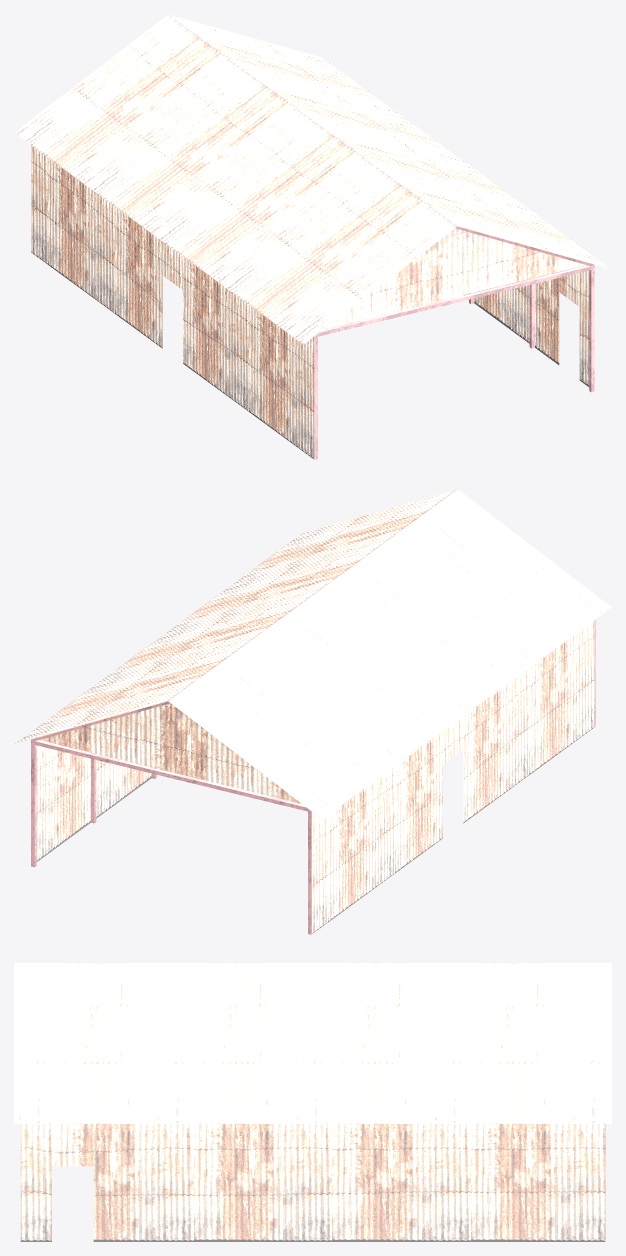
The model's file is large_shedB.glb.
3 views of the same model, one above another, from view 1: azimuth 30°, elevation 25°; view 2: azimuth 150°, elevation 25°; view 3: azimuth 270°, elevation 25° (orthographic). The views are drawn at different scales.
Parts seen in each view (by area): view 1: Shed A, Shed A Frame; view 2: Shed A, Shed A Frame; view 3: Shed A.
Part boxes in pixels (bbox=[...]): Shed A: bbox=[14, 14, 611, 459]; Shed A Frame: bbox=[31, 145, 594, 460]; Shed A: bbox=[15, 489, 611, 934]; Shed A Frame: bbox=[31, 619, 595, 934]; Shed A: bbox=[14, 963, 611, 1241].
Bounding box in the file's own units: 8.8 × 5.5 × 14.32.
